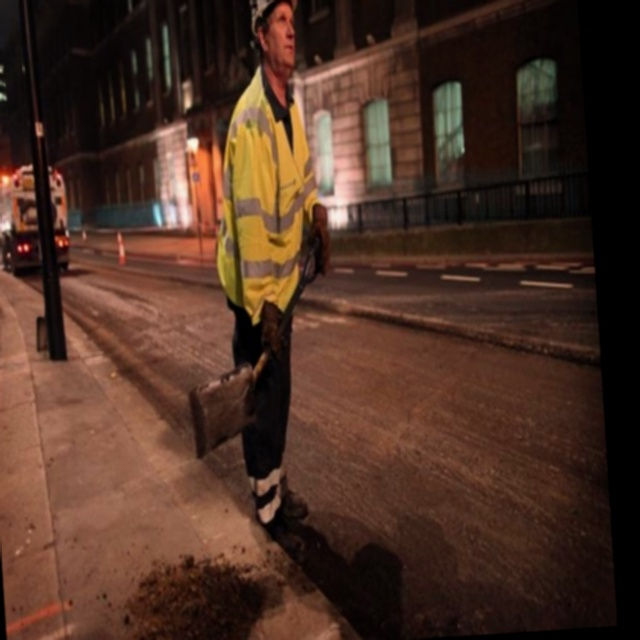Con_Casco: (250, 0, 301, 77)
Con_Chaleco: (205, 76, 317, 307)
